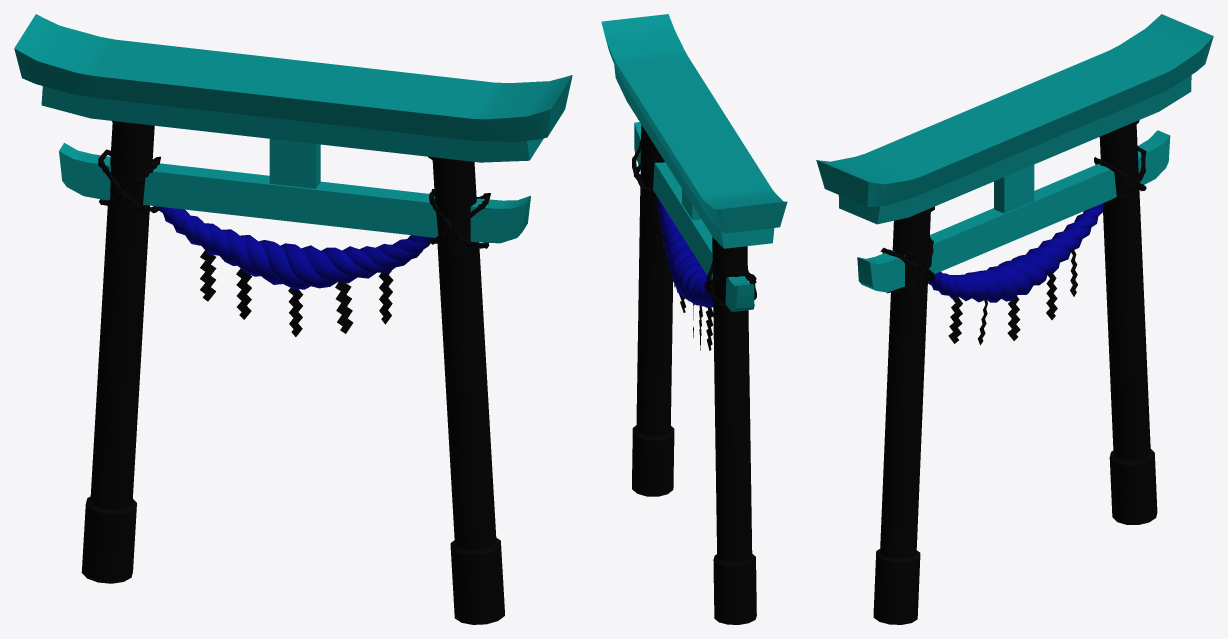
Rendered from SM_ENV_LKNVLD_Shop_Tori_Lod2.gltf.
3 views of the same model, side by side, from view 1: azimuth 30°, elevation 25°; view 2: azimuth 150°, elevation 25°; view 3: azimuth 270°, elevation 25° (orthographic). The views are drawn at different scales.
Visible parts, largest first — view 1: SM_ENV_LKNVLD_Shop_Tori_Lod2; view 2: SM_ENV_LKNVLD_Shop_Tori_Lod2; view 3: SM_ENV_LKNVLD_Shop_Tori_Lod2.
Boxes of the visible parts, x1,y1,x2,y2 form: SM_ENV_LKNVLD_Shop_Tori_Lod2: (14,14,572,624); SM_ENV_LKNVLD_Shop_Tori_Lod2: (601,14,787,624); SM_ENV_LKNVLD_Shop_Tori_Lod2: (816,14,1213,624).
Bounding box in the file's own units: 8.12 × 10.56 × 8.12.
